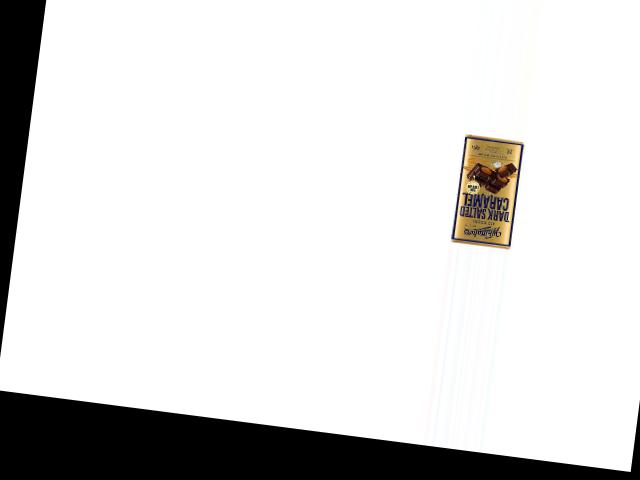chocolate: (446, 131, 526, 248)
